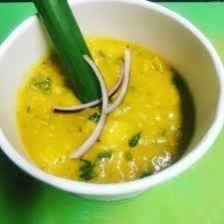dal: (8, 32, 204, 190)
